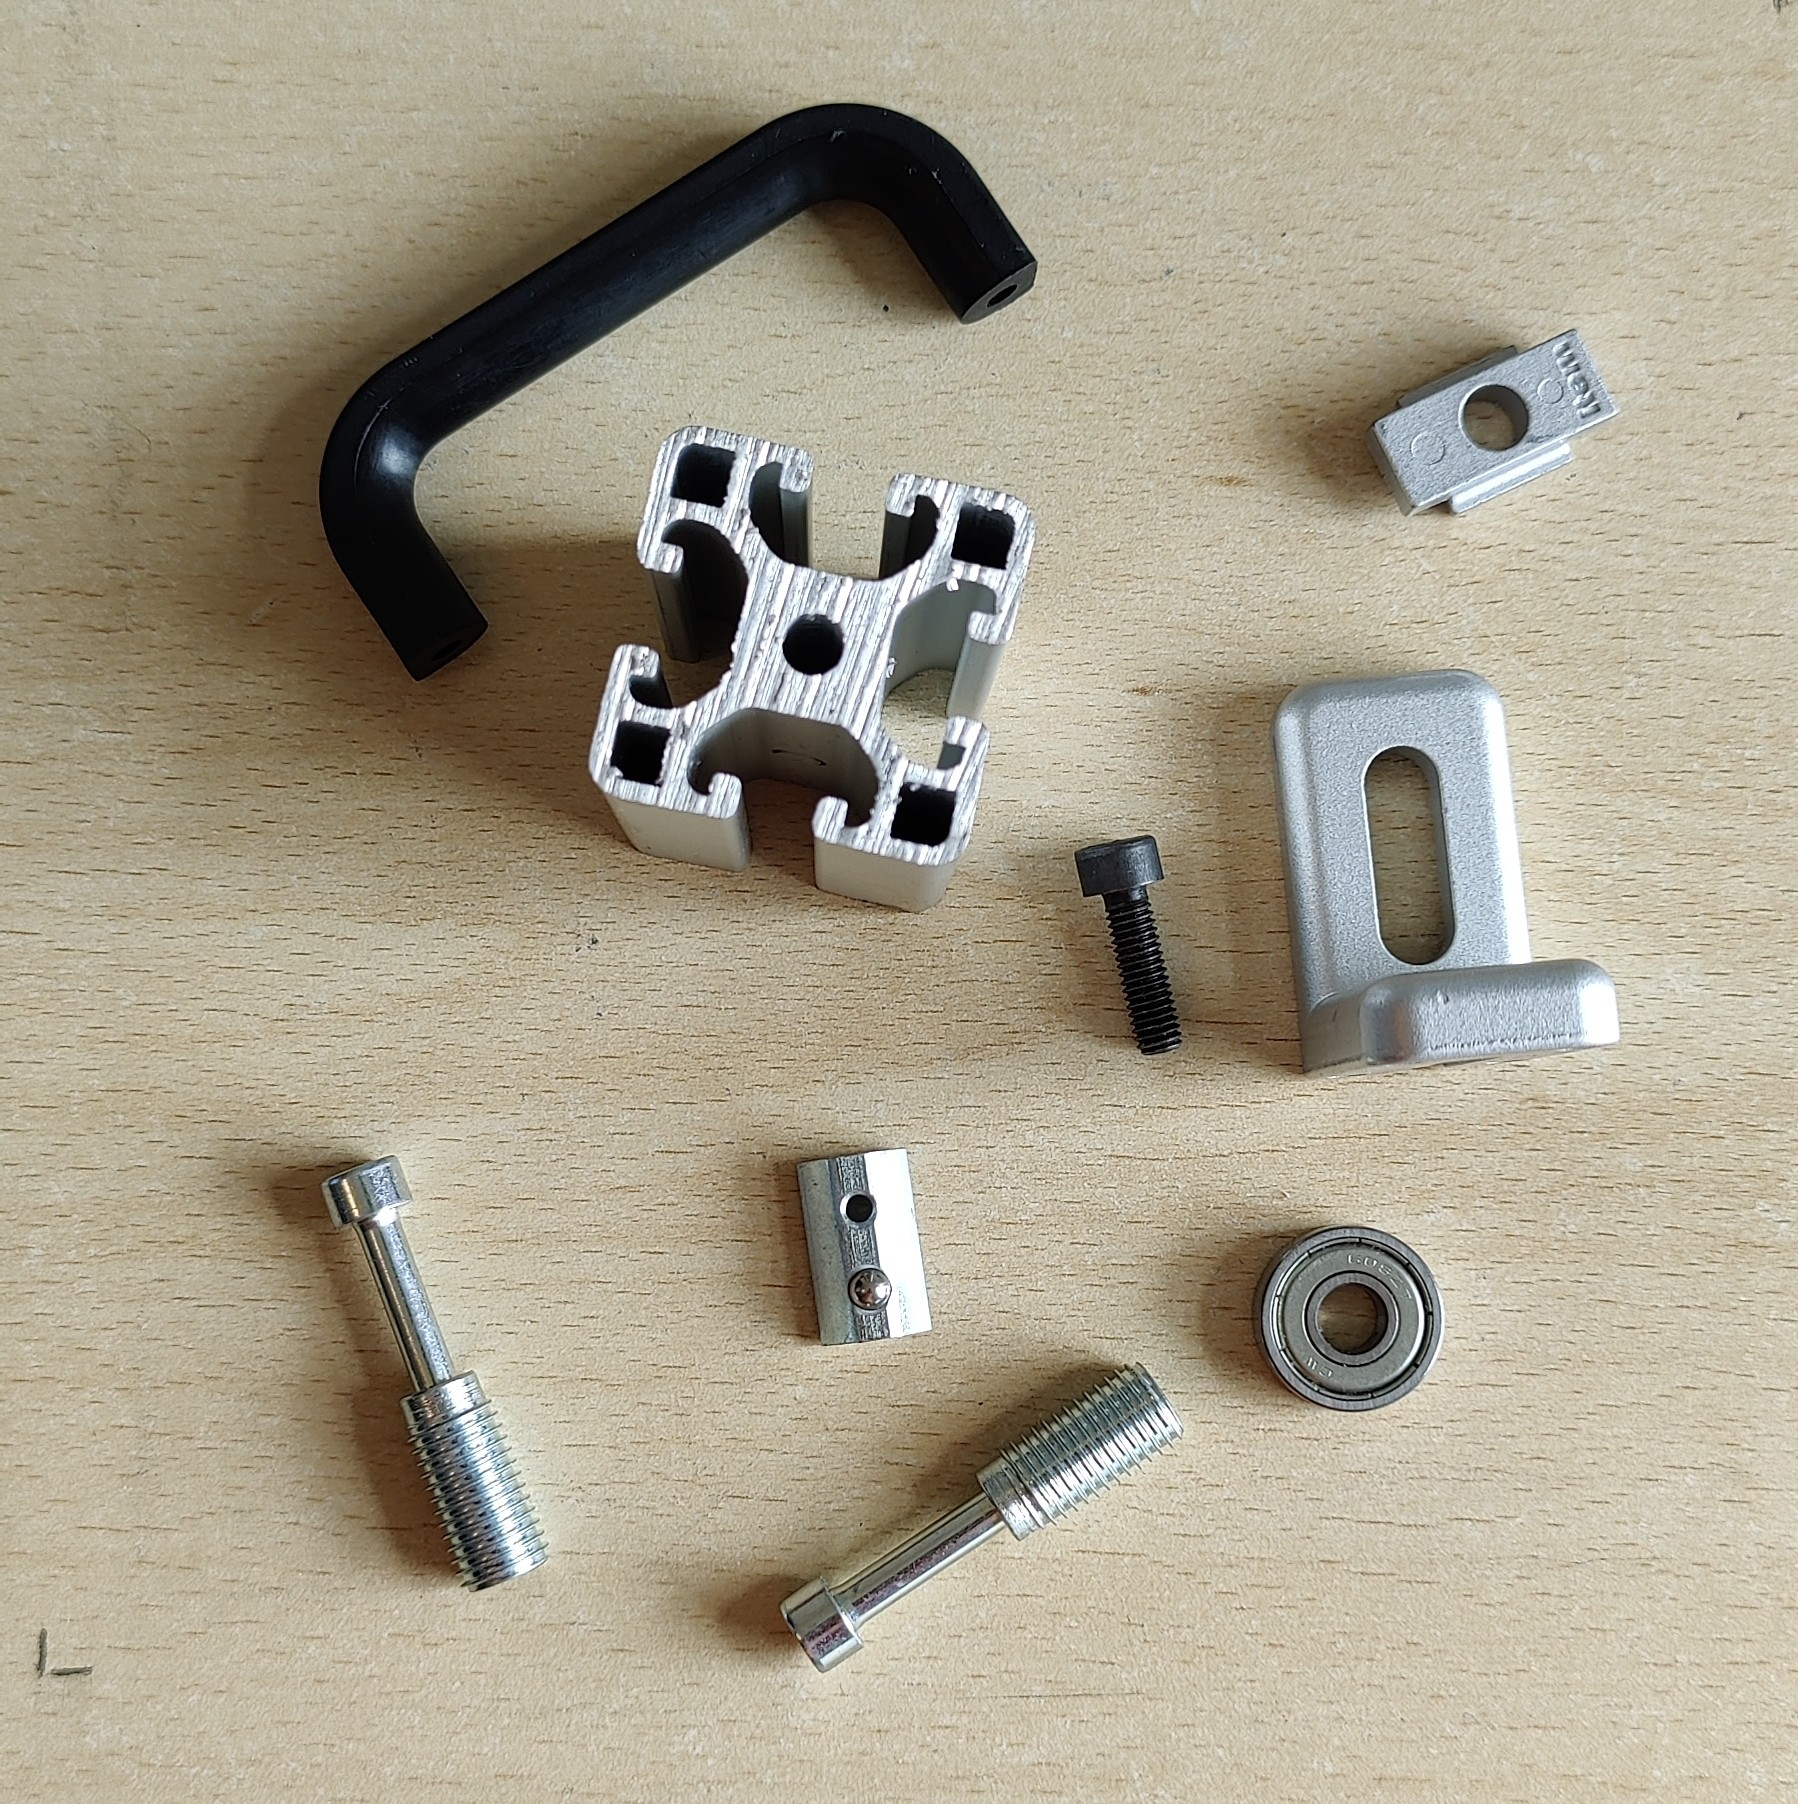Aluminium Extension: (585, 421, 1037, 912)
Ball Bearing: (1255, 1221, 1444, 1414)
Multiwinkel: (1269, 667, 1625, 1081)
Pull Handle: (314, 100, 1041, 681)
Shoulder Socket Head Cap Screw: (779, 1356, 1185, 1674), (314, 1152, 555, 1597)
Socket Head Cap Screw: (1070, 831, 1187, 1057)
T Nut Square: (1362, 329, 1619, 522)
T Spring Nut: (794, 1142, 934, 1348)
